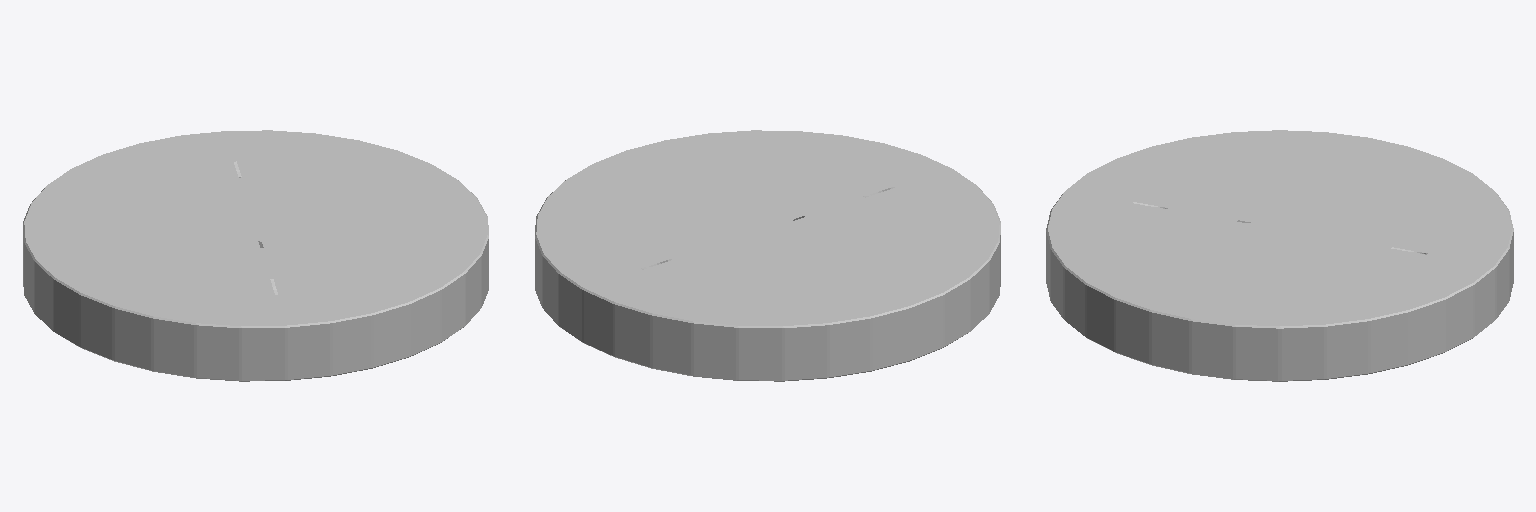
The model's file is coin.obj.
3 renders of one model, left to right at view 1: azimuth 30°, elevation 25°; view 2: azimuth 150°, elevation 25°; view 3: azimuth 270°, elevation 25°, orthographic.
Parts seen in each view (by area): view 1: Coin_Cube; view 2: Coin_Cube; view 3: Coin_Cube.
Boxes of the visible parts, <box> form: Coin_Cube: <box>23,130,488,381</box>; Coin_Cube: <box>535,130,1000,381</box>; Coin_Cube: <box>1046,130,1513,381</box>.
Bounding box in the file's own units: 1.19 × 0.1552 × 1.19.